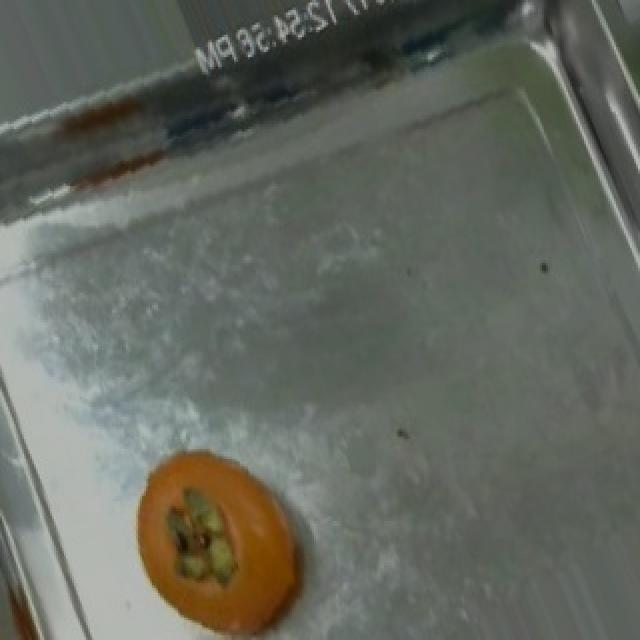Fruit: (114, 434, 322, 638)
